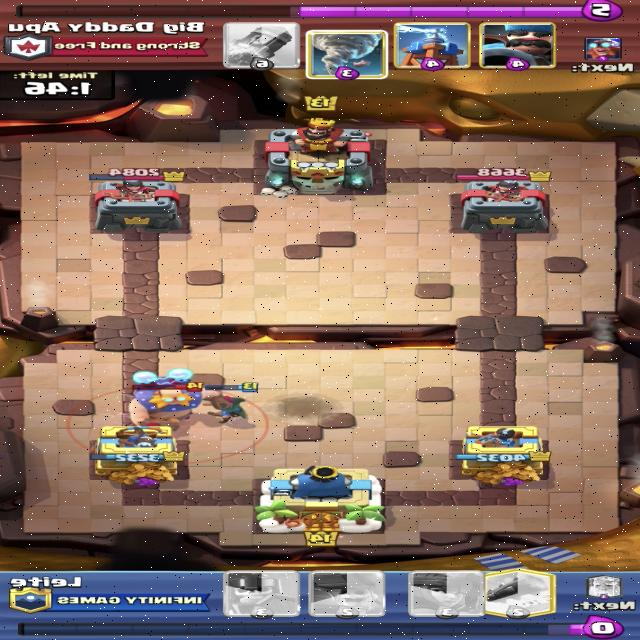Enemy-ElectroGiant: (128, 368, 233, 430)
Player-Bandit: (203, 382, 260, 423)
